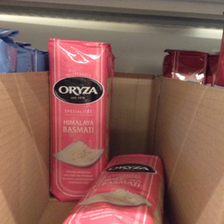rice: (48, 37, 112, 201), (63, 153, 167, 224)
